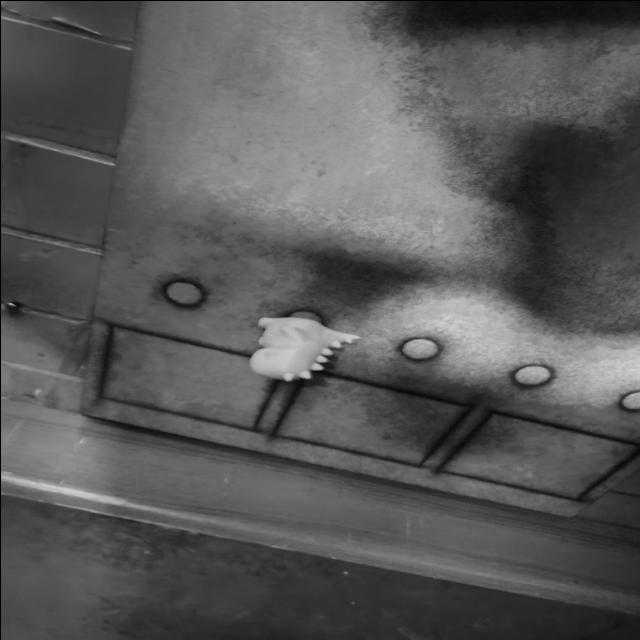DINO: (232, 306, 356, 402)
